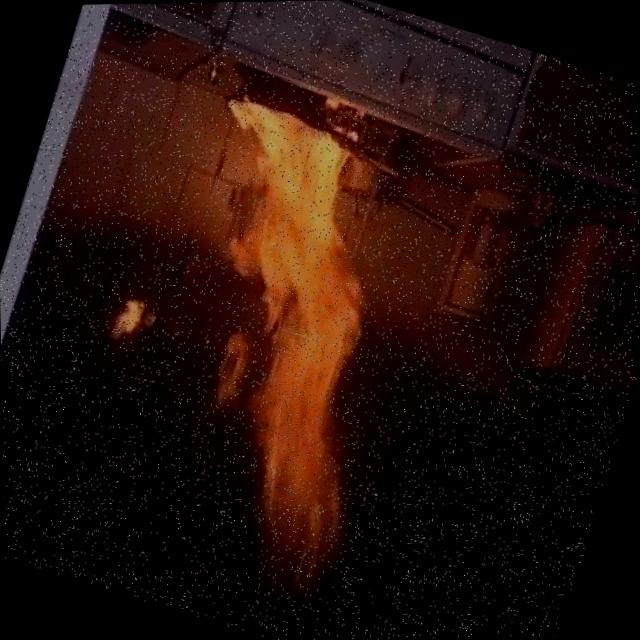fire: (33, 29, 488, 588)
